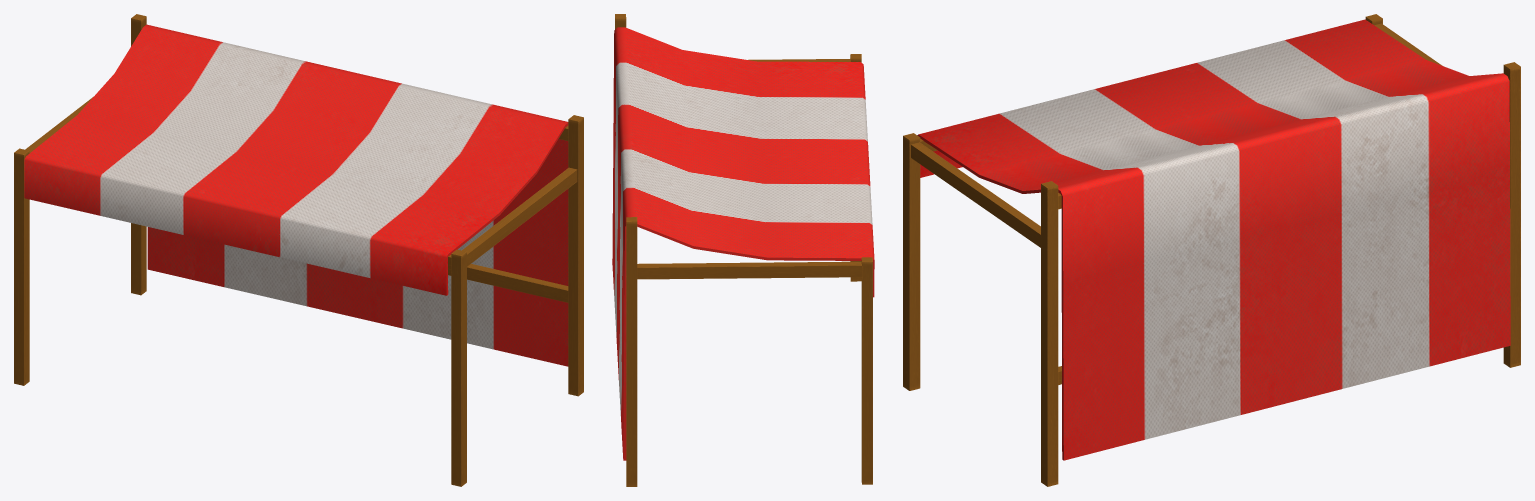
Rendered from stand1.glb.
The picture shows the model from 3 angles, left to right: view 1: azimuth 30°, elevation 25°; view 2: azimuth 150°, elevation 25°; view 3: azimuth 270°, elevation 25°; orthographic projection. The views are drawn at different scales.
Visible parts, largest first — view 1: Stand_Tools_Cloth1_0; view 2: Stand_Tools_Cloth1_0; view 3: Stand_Tools_Cloth1_0.
Boxes of the visible parts, x1,y1,x2,y2 form: Stand_Tools_Cloth1_0: (14,14,583,486); Stand_Tools_Cloth1_0: (612,14,874,486); Stand_Tools_Cloth1_0: (903,14,1520,486).
Size of the model in its own units: 5.97 by 3.74 by 7.02.
2 materials, 2 textured.
